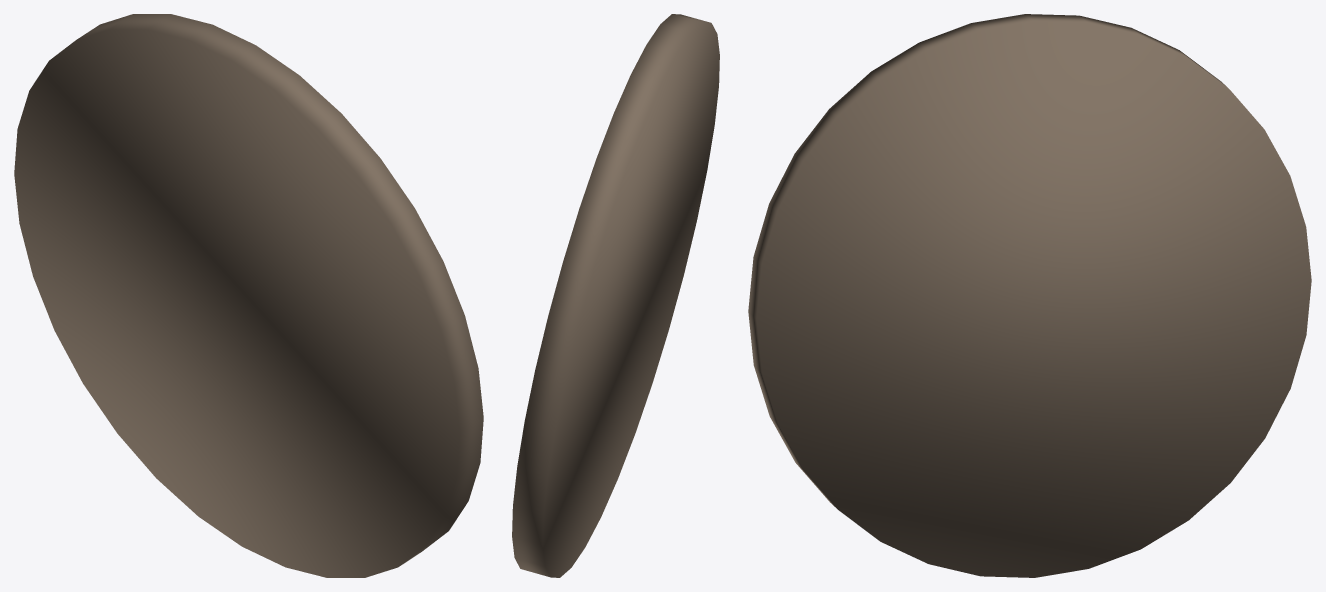
Rendered from xion_shield_wood_round_arm_left.dae.
The picture shows the model from 3 angles, left to right: view 1: azimuth 30°, elevation 25°; view 2: azimuth 150°, elevation 25°; view 3: azimuth 270°, elevation 25°; orthographic projection. The views are drawn at different scales.
Parts seen in each view (by area): view 1: Plano_001_001_002; view 2: Plano_001_001_002; view 3: Plano_001_001_002.
Part boxes in pixels (box(x1,y1,x2,y2)): Plano_001_001_002: box(14, 14, 483, 577); Plano_001_001_002: box(512, 14, 719, 577); Plano_001_001_002: box(748, 14, 1311, 577).
Size of the model in its own units: 0.3083 by 0.8269 by 0.8376.
